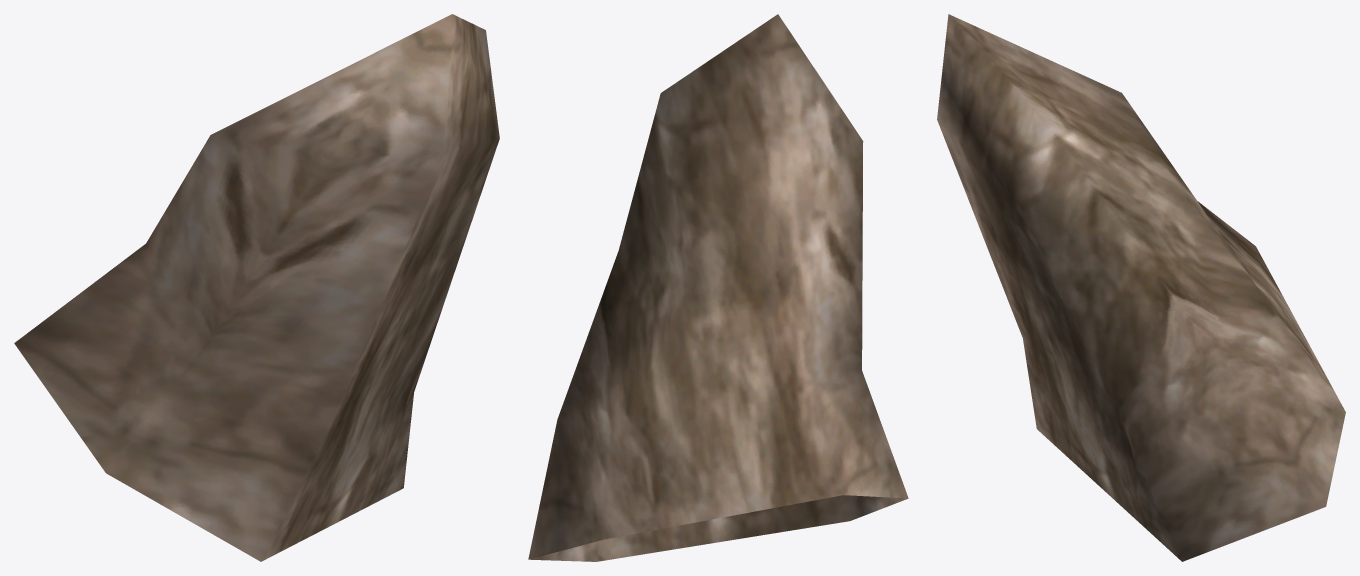
File: OVERHILL_A_01_ROCK31.fbx
3 renders of one model, left to right at view 1: azimuth 30°, elevation 25°; view 2: azimuth 150°, elevation 25°; view 3: azimuth 270°, elevation 25°, orthographic. The views are drawn at different scales.
Parts seen in each view (by area): view 1: OVERHILL_A_01_ROCK31; view 2: OVERHILL_A_01_ROCK31; view 3: OVERHILL_A_01_ROCK31.
Part boxes in pixels (x1,y1,x2,y2): OVERHILL_A_01_ROCK31: (14,14,499,561); OVERHILL_A_01_ROCK31: (528,14,908,561); OVERHILL_A_01_ROCK31: (937,14,1345,561).
Bounding box in the file's own units: 37040 × 58992 × 42756.
1 material, 1 textured.
